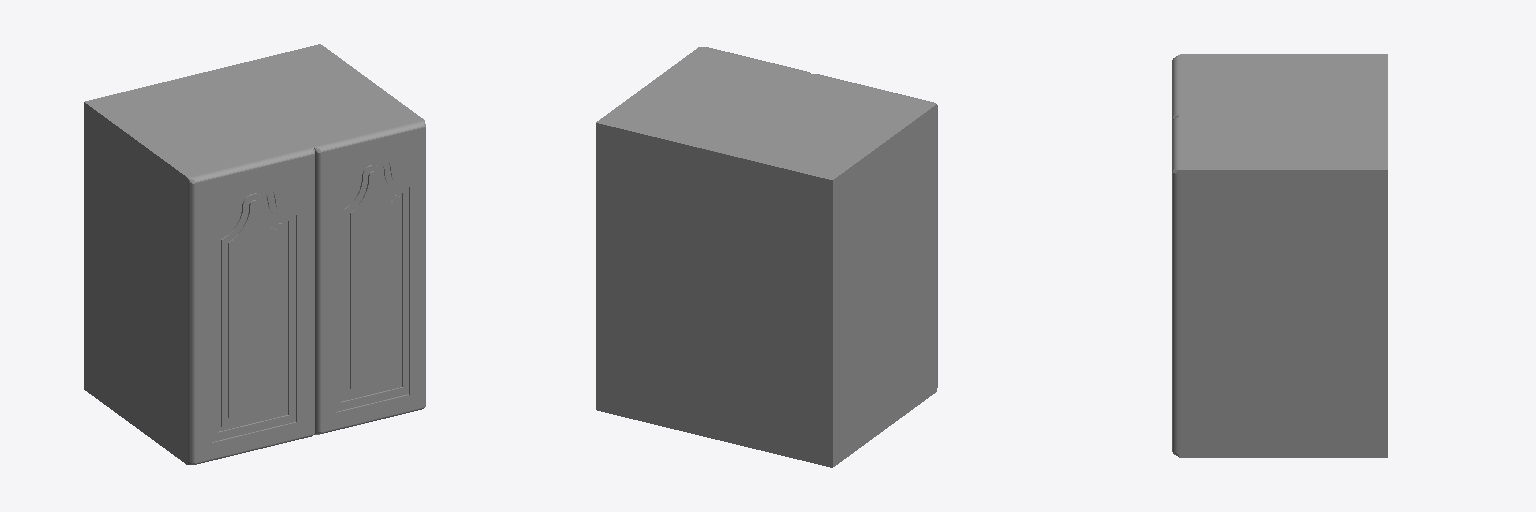
Rendered from double-base-unit-750.obj.
3 views of the same model, side by side, from view 1: azimuth 30°, elevation 25°; view 2: azimuth 150°, elevation 25°; view 3: azimuth 270°, elevation 25° (orthographic).
Visible parts, largest first — view 1: Cube.003_Cube.008, Cube.004_Cube.000, Cube.002_Cube.004, Cube_Cube.002; view 2: Cube_Cube.002, Cube.002_Cube.004, Cube.001_Cube.003; view 3: Cube.001_Cube.003, Cube_Cube.002, Cube.004_Cube.000, Cube.002_Cube.004.
Part boxes in pixels (bbox=[...]): Cube.003_Cube.008: bbox=[188, 147, 314, 464]; Cube.004_Cube.000: bbox=[314, 120, 425, 434]; Cube.002_Cube.004: bbox=[84, 101, 191, 464]; Cube_Cube.002: bbox=[89, 45, 418, 176]; Cube_Cube.002: bbox=[600, 48, 931, 466]; Cube.002_Cube.004: bbox=[828, 103, 936, 467]; Cube.001_Cube.003: bbox=[596, 47, 703, 410]; Cube.001_Cube.003: bbox=[1180, 168, 1387, 457]; Cube_Cube.002: bbox=[1180, 57, 1387, 167]; Cube.004_Cube.000: bbox=[1172, 116, 1179, 457]; Cube.002_Cube.004: bbox=[1180, 54, 1387, 56].
Size of the model in its own units: 150 by 174 by 118.